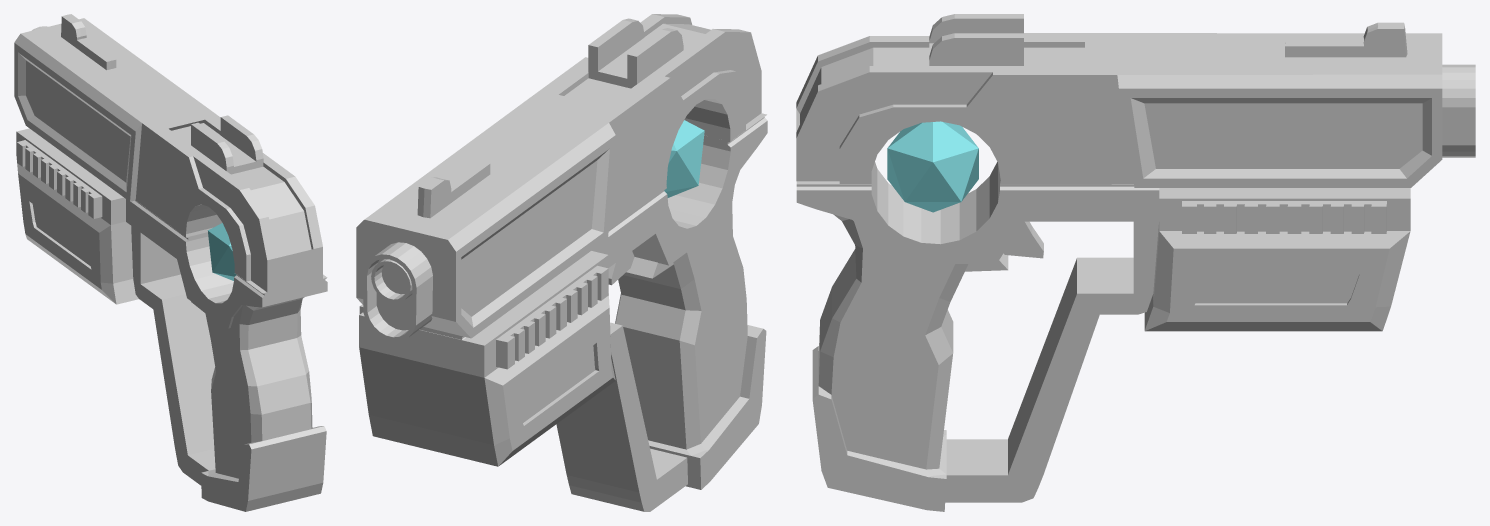
File: pistolet.fbx
3 views of the same model, side by side, from view 1: azimuth 30°, elevation 25°; view 2: azimuth 150°, elevation 25°; view 3: azimuth 270°, elevation 25° (orthographic). The views are drawn at different scales.
Visible parts, largest first — view 1: Pistolet LOW, Icosphere; view 2: Pistolet LOW, Icosphere; view 3: Pistolet LOW, Icosphere.
Part boxes in pixels (x1=…): Pistolet LOW: x1=14, y1=14, x2=327, y2=511; Icosphere: x1=207, y1=223, x2=236, y2=280; Pistolet LOW: x1=356, y1=14, x2=767, y2=511; Icosphere: x1=664, y1=120, x2=704, y2=197; Pistolet LOW: x1=796, y1=14, x2=1475, y2=511; Icosphere: x1=887, y1=121, x2=978, y2=212.
Bounding box in the file's own units: 87.27 × 257 × 343.
